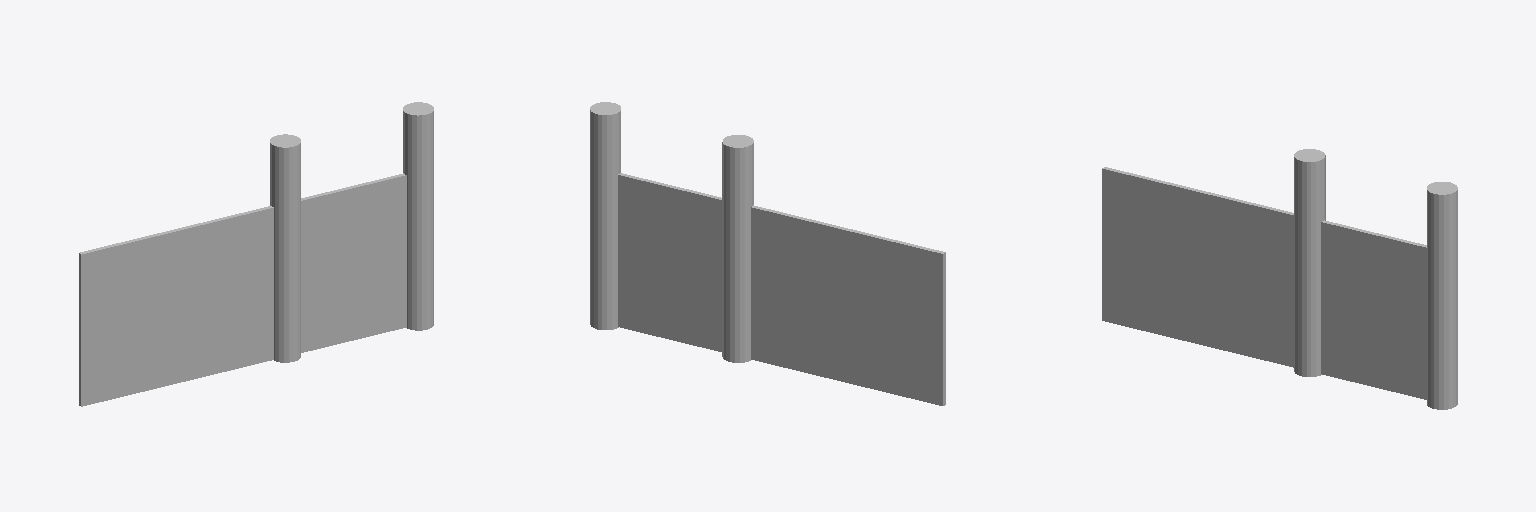
The model's file is walldouble9.obj.
3 views of the same model, side by side, from view 1: azimuth 30°, elevation 25°; view 2: azimuth 150°, elevation 25°; view 3: azimuth 330°, elevation 25° (orthographic).
Parts seen in each view (by area): view 1: walldouble9; view 2: walldouble9; view 3: walldouble9.
Part boxes in pixels (bbox=[...]): walldouble9: bbox=[79, 102, 433, 406]; walldouble9: bbox=[590, 102, 945, 405]; walldouble9: bbox=[1102, 149, 1457, 409].
Size of the model in its own units: 42.2 by 24.63 by 3.35.